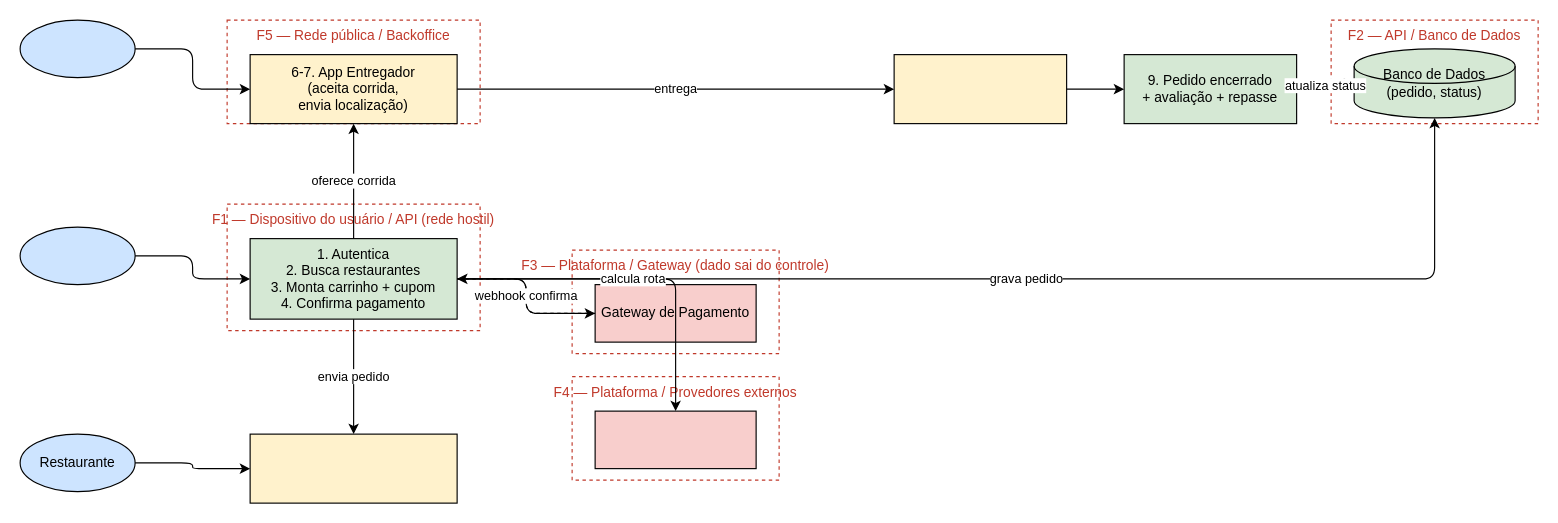
Some shapes in this 1558 by 523 pixel diagram are drawn without their labels. The centre of each missing label's shape, as x and y in pixels:
"5. Painel do Restaurante (aceita pedido)" goes at [353,468].
"8. Cliente confirma código de entrega" goes at [980,88].
"Cliente" goes at [77,255].
"Entregador" goes at [77,48].
"Mapas / Notificações" goes at [675,439].
